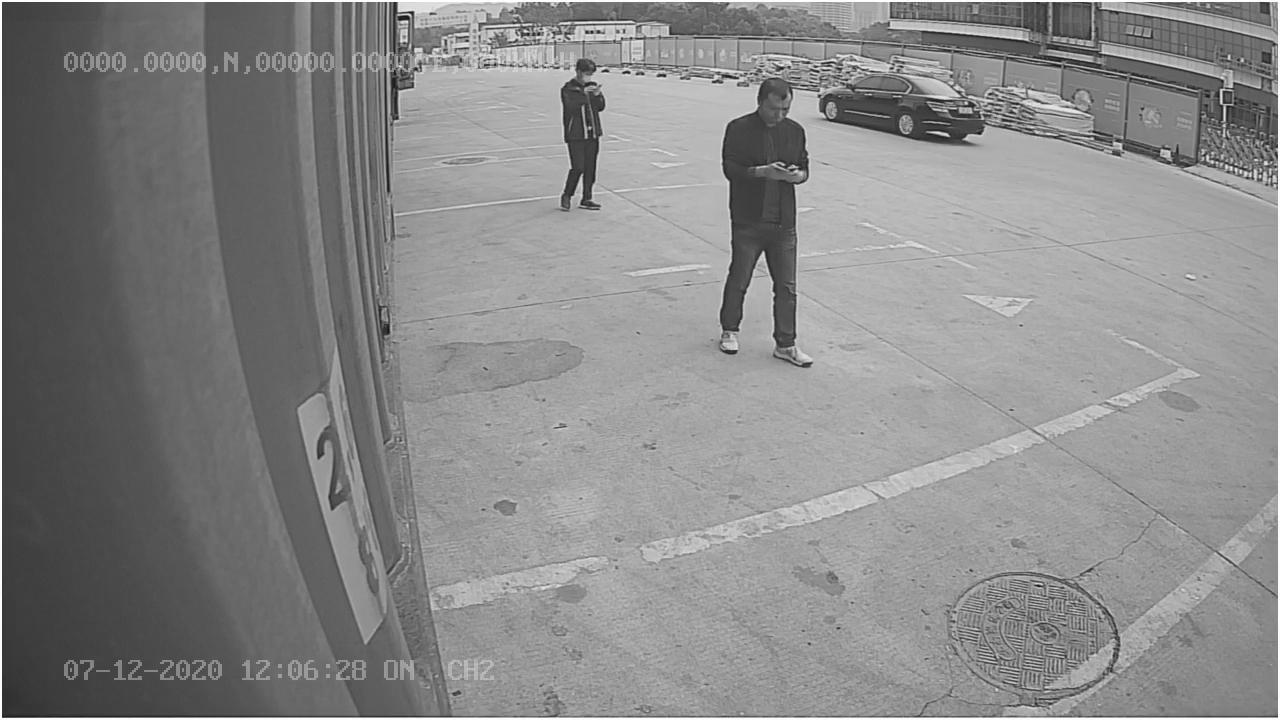person: (718, 78, 824, 366)
